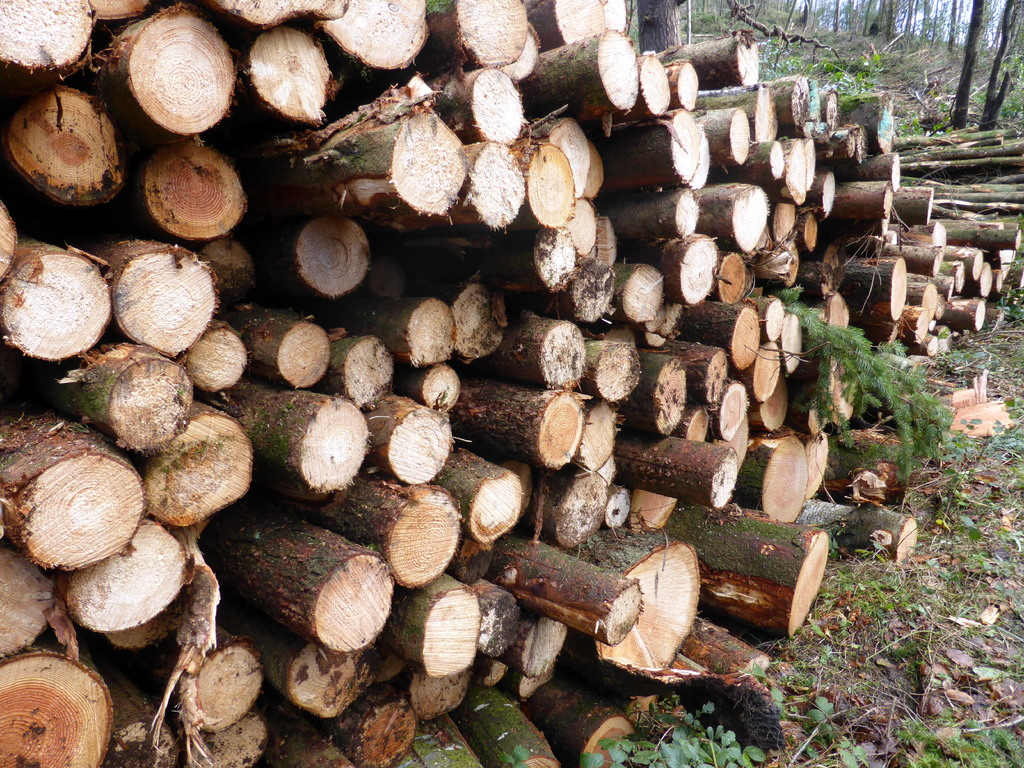Tree: (636, 0, 1024, 136)
